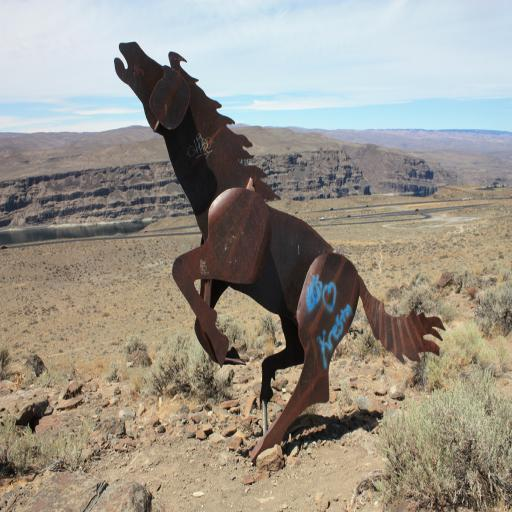horse: (112, 37, 446, 462)
